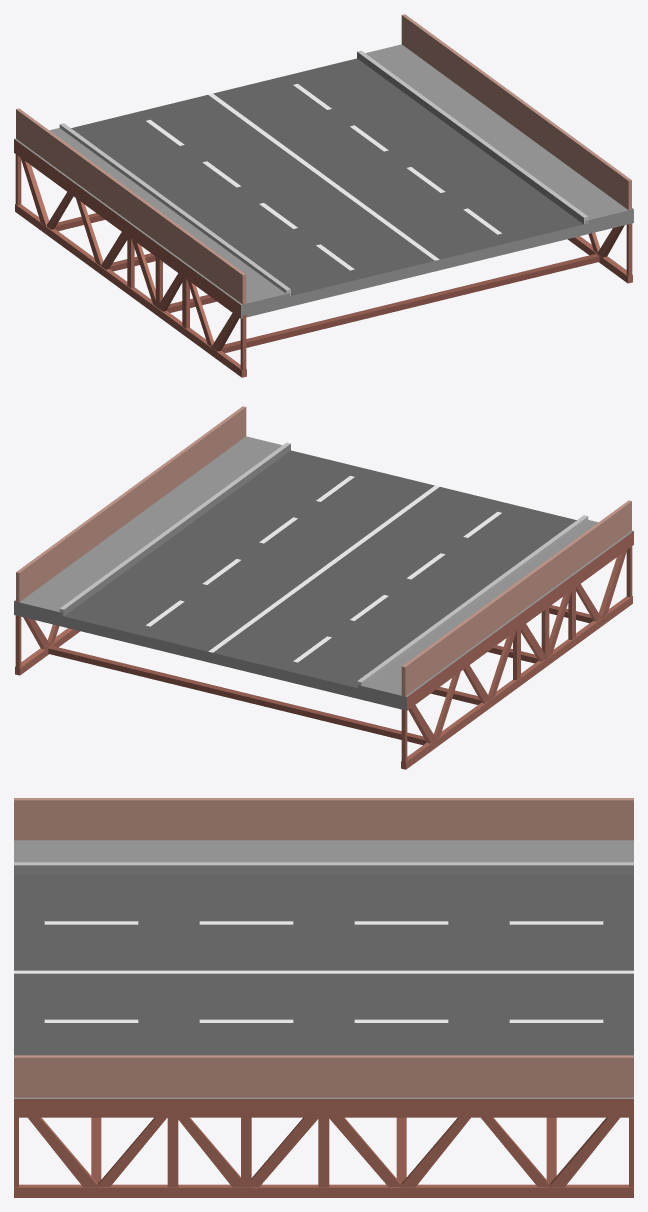
File: bridge_road_002.fbx
The picture shows the model from 3 angles, top to bottom: view 1: azimuth 30°, elevation 25°; view 2: azimuth 150°, elevation 25°; view 3: azimuth 270°, elevation 25°; orthographic projection. The views are drawn at different scales.
Parts seen in each view (by area): view 1: bridge_road_002; view 2: bridge_road_002; view 3: bridge_road_002.
Boxes of the visible parts, bbox=[...] form: bridge_road_002: bbox=[14, 14, 633, 377]; bridge_road_002: bbox=[14, 406, 633, 769]; bridge_road_002: bbox=[14, 798, 633, 1197].
Size of the model in its own units: 1600 by 398 by 1600.
